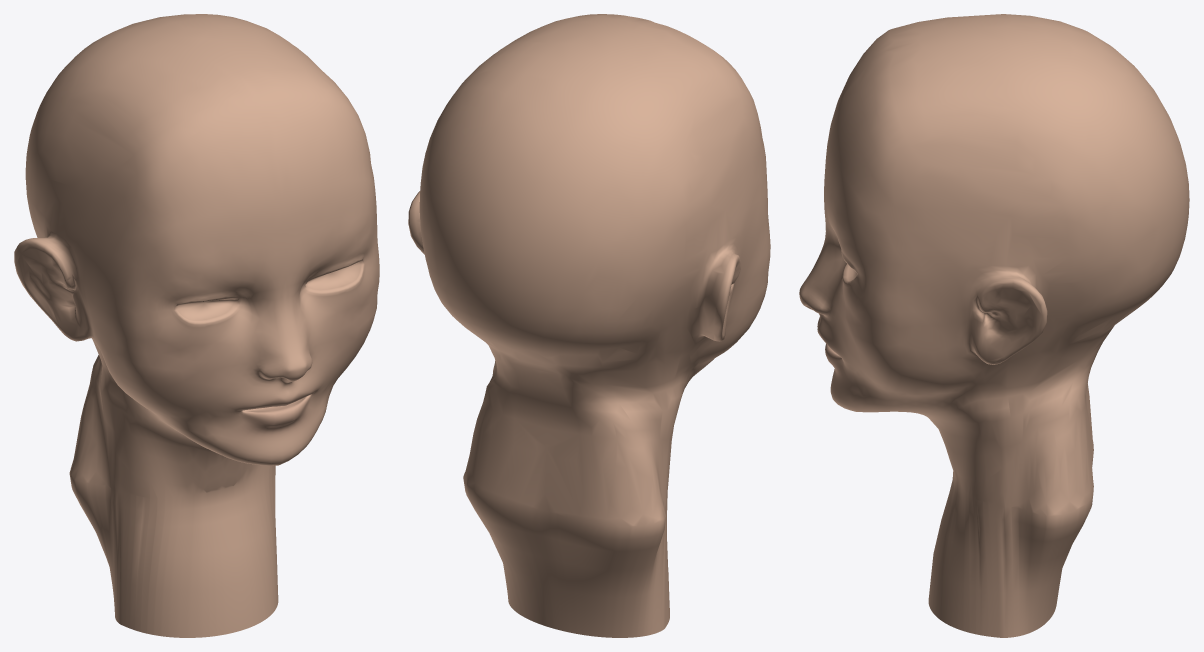
The model's file is lingya-head.glb.
3 renders of one model, left to right at view 1: azimuth 30°, elevation 25°; view 2: azimuth 150°, elevation 25°; view 3: azimuth 270°, elevation 25°, orthographic.
Visible parts, largest first — view 1: Lingya-head; view 2: Lingya-head; view 3: Lingya-head.
Part boxes in pixels (x1,y1,x2,y2): Lingya-head: [14, 14, 379, 637]; Lingya-head: [408, 14, 770, 637]; Lingya-head: [799, 14, 1189, 637].
Size of the model in its own units: 0.1819 by 0.3075 by 0.1917.
